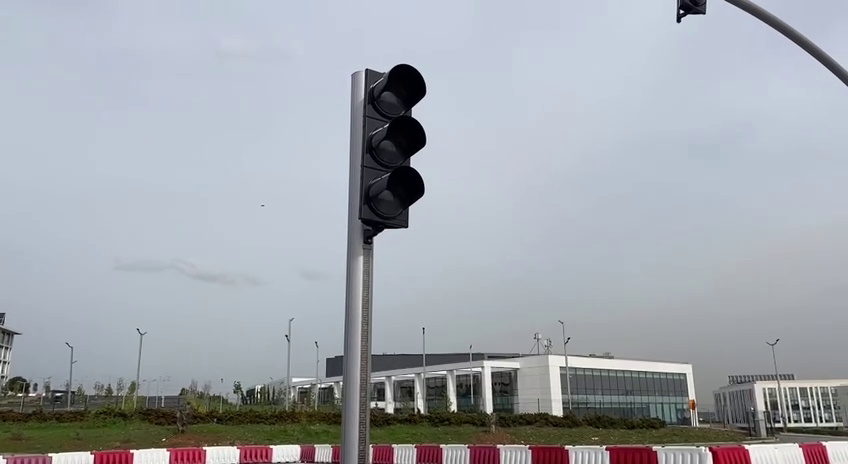trafficLight: (343, 60, 428, 236)
